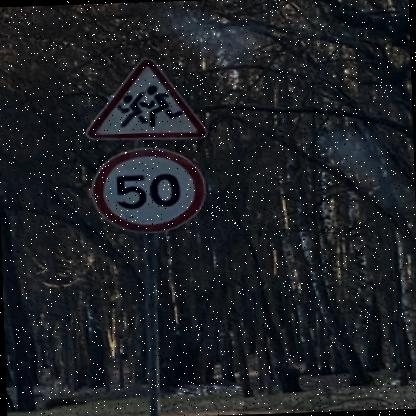speedlimit: (90, 147, 204, 235)
